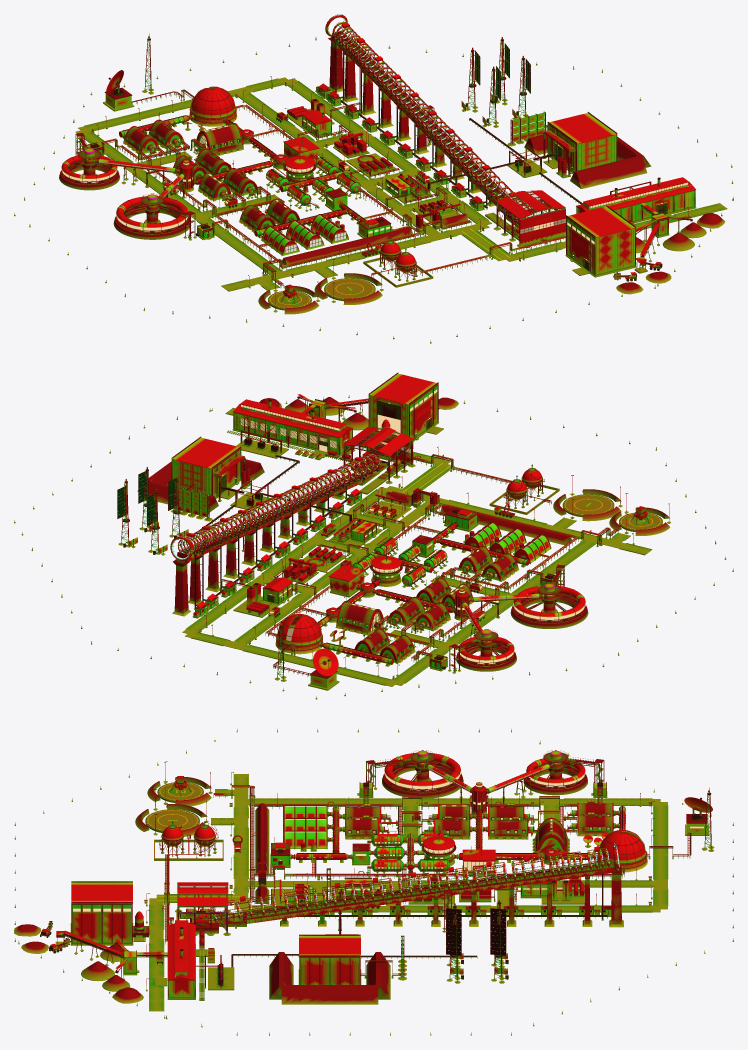
Rendered from moon-outpost-v3.glb.
3 renders of one model, top to bottom at view 1: azimuth 30°, elevation 25°; view 2: azimuth 150°, elevation 25°; view 3: azimuth 270°, elevation 25°, orthographic. The views are drawn at different scales.
Parts seen in each view (by area): view 1: static_paint, static_frame, static_pad, static_regolith, static_steel, static_sinter, static_anodized, static_foil, static_copper, static_lit, spin_ring_a_paint, static_coil (+4 smaller); view 2: static_paint, static_frame, static_pad, static_steel, static_sinter, static_regolith, static_anodized, static_foil, static_lit, static_copper, static_solar, static_signal (+4 smaller); view 3: static_paint, static_frame, static_pad, static_regolith, static_steel, static_sinter, static_anodized, static_foil, static_solar, static_lit, static_fabric, spin_ring_a_paint (+4 smaller).
Boxes of the visible parts, box(x1,y1,x2,y2) form: static_paint: box(84, 22, 695, 310); static_frame: box(14, 14, 733, 341); static_pad: box(59, 77, 726, 310); static_regolith: box(121, 89, 725, 314); static_steel: box(62, 14, 660, 284); static_sinter: box(14, 39, 733, 343); static_anodized: box(90, 29, 692, 292); static_foil: box(102, 104, 565, 284); static_copper: box(102, 42, 633, 284); static_lit: box(87, 119, 687, 275); spin_ring_a_paint: box(116, 196, 188, 231); static_coil: box(328, 17, 532, 218); static_paint: box(129, 373, 669, 688); static_frame: box(14, 372, 733, 697); static_pad: box(182, 408, 662, 686); static_steel: box(125, 401, 616, 673); static_sinter: box(14, 396, 733, 699); static_regolith: box(118, 397, 670, 681); static_anodized: box(122, 396, 668, 675); static_foil: box(266, 444, 617, 659); static_lit: box(240, 389, 551, 661); static_copper: box(129, 427, 616, 673); static_solar: box(117, 471, 177, 525); static_signal: box(183, 440, 601, 656); static_paint: box(40, 750, 712, 997); static_frame: box(15, 729, 733, 1033); static_pad: box(133, 761, 667, 1011); static_regolith: box(14, 777, 714, 1004); static_steel: box(48, 762, 701, 1000); static_sinter: box(14, 730, 733, 1035); static_anodized: box(40, 761, 711, 985); static_foil: box(135, 785, 623, 946); static_solar: box(446, 908, 505, 955); static_lit: box(73, 762, 703, 911); static_fabric: box(167, 764, 617, 903); spin_ring_a_paint: box(384, 753, 460, 789).
Bounding box in the file's own units: 357 × 43.8 × 357.
